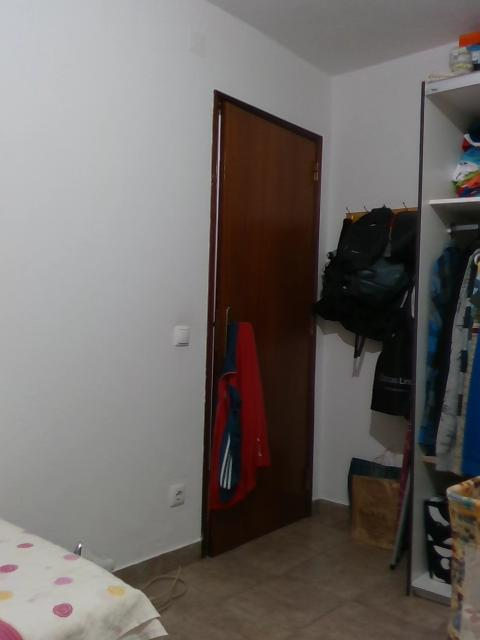door: (211, 97, 315, 557)
